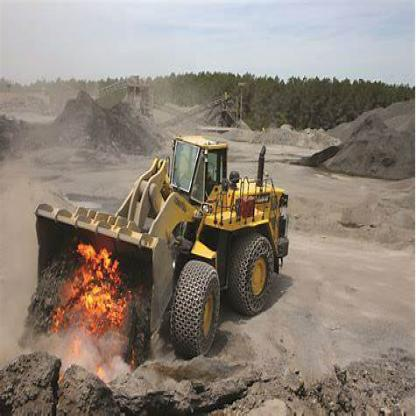bull_dozer/loader/grader: (29, 103, 312, 374)
